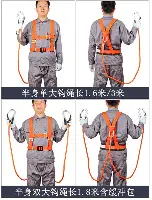safety belt: (94, 114, 136, 155), (22, 21, 62, 58), (23, 117, 60, 157), (92, 19, 123, 60)
